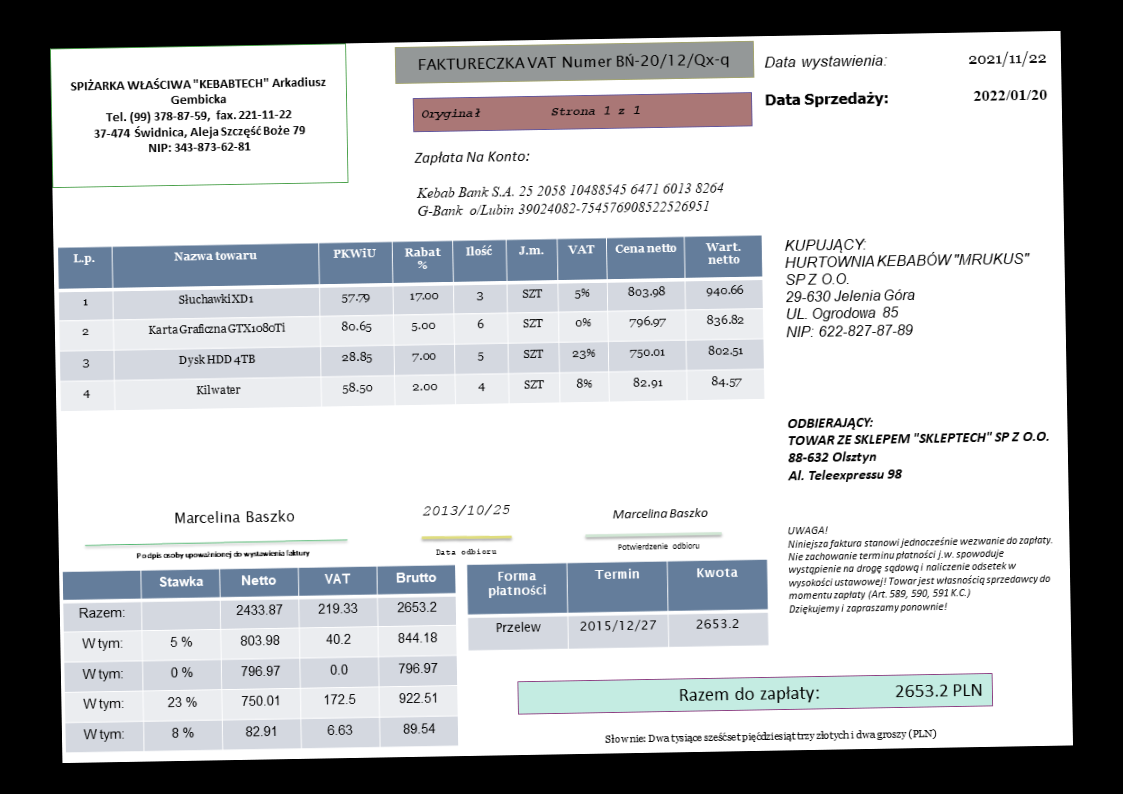Table: (56, 231, 767, 412), (61, 564, 460, 754), (465, 558, 770, 652)
TextBox: (781, 231, 1033, 341), (785, 519, 1054, 617), (67, 71, 328, 157), (784, 409, 1052, 485), (415, 177, 726, 220), (414, 49, 732, 76), (677, 679, 982, 706), (602, 724, 939, 747), (418, 101, 644, 124), (763, 88, 893, 112), (761, 50, 888, 73), (133, 547, 312, 563), (412, 145, 534, 167), (172, 508, 295, 526), (964, 48, 1049, 70), (611, 505, 710, 522), (420, 501, 514, 518), (970, 86, 1051, 105), (616, 539, 701, 553), (434, 544, 498, 558)
